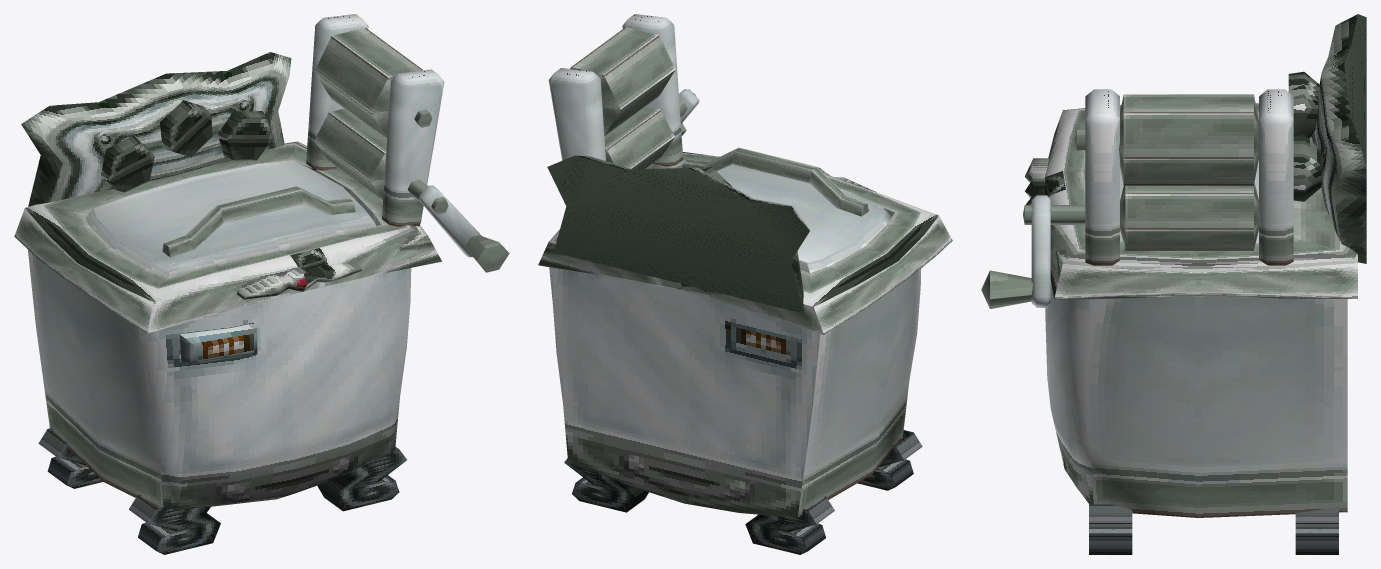
Rendered from laundry_machine.obj.
3 renders of one model, left to right at view 1: azimuth 30°, elevation 25°; view 2: azimuth 150°, elevation 25°; view 3: azimuth 270°, elevation 25°, orthographic. The views are drawn at different scales.
Parts seen in each view (by area): view 1: part2_texture1, part0_texture0.001, part4_texture3, part0_texture0.002, part1_texture2, part3_texture2, part5_texture4, part1_texture1.001; view 2: part0_texture0.001, part2_texture1, part4_texture3, part0_texture0.002, part5_texture4, part1_texture2, part3_texture2, part1_texture1.001; view 3: part2_texture1, part3_texture2, part4_texture3, part0_texture0.001, part1_texture2, part5_texture4.
Boxes of the visible parts, box(x1,y1,x2,y2) form: part2_texture1: box(28, 14, 509, 508); part0_texture0.001: box(143, 268, 411, 510); part4_texture3: box(21, 52, 291, 206); part0_texture0.002: box(85, 159, 376, 276); part1_texture2: box(25, 141, 441, 333); part3_texture2: box(14, 100, 272, 333); part5_texture4: box(38, 428, 406, 554); part1_texture1.001: box(162, 186, 355, 257); part0_texture0.001: box(549, 267, 921, 517); part2_texture1: box(548, 14, 921, 517); part4_texture3: box(547, 155, 809, 313); part0_texture0.002: box(675, 164, 891, 272); part5_texture4: box(564, 430, 922, 554); part1_texture2: box(538, 152, 938, 334); part3_texture2: box(702, 166, 952, 334); part1_texture1.001: box(682, 147, 869, 216); part2_texture1: box(981, 89, 1347, 517); part3_texture2: box(1054, 71, 1357, 299); part4_texture3: box(1311, 14, 1366, 263); part0_texture0.001: box(1045, 280, 1097, 504); part1_texture2: box(1024, 103, 1357, 299); part5_texture4: box(1089, 504, 1338, 554).
Bounding box in the file's own units: 1.05 × 1.18 × 0.8672.
5 materials, 5 textured.
